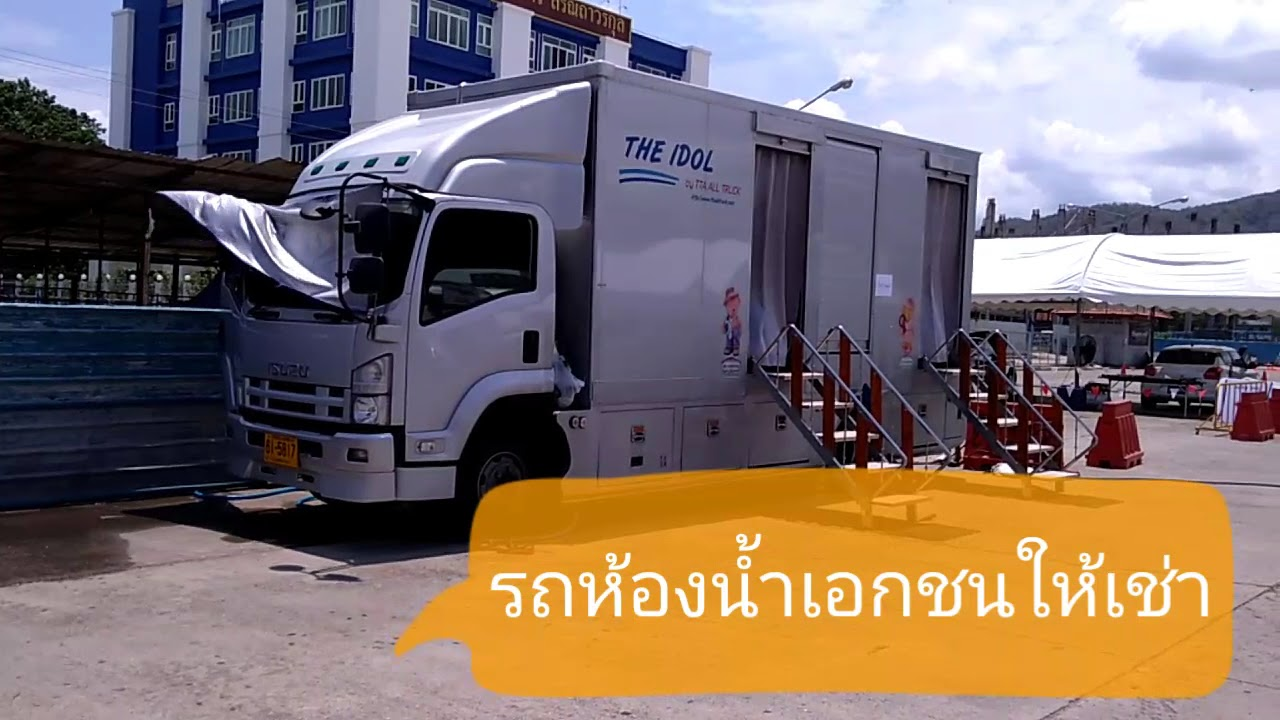truck: (217, 66, 600, 504)
